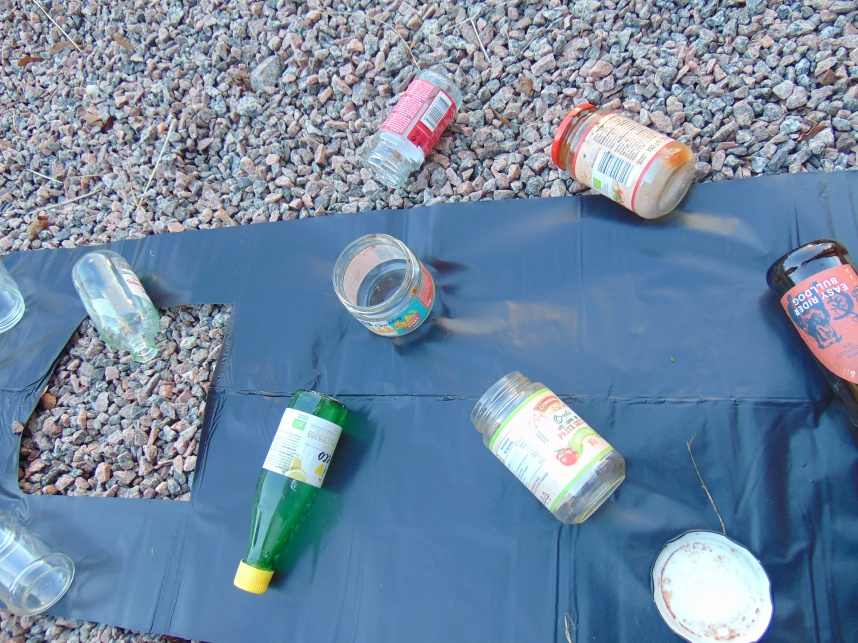glass_bottle: (469, 370, 631, 527), (238, 389, 347, 591), (765, 241, 858, 426), (550, 105, 693, 222), (332, 234, 443, 347), (363, 68, 467, 188), (73, 251, 162, 360), (1, 501, 72, 619), (1, 230, 27, 337)
metal: (650, 530, 771, 643)
